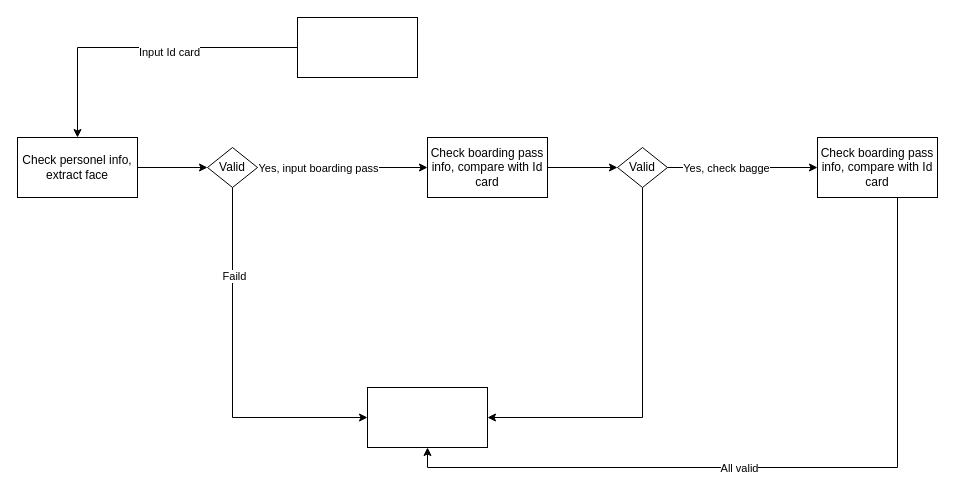
Image size: 955x493. Some labels were removed from this diagram. Each missing label, with the box of its shape:
Automation Kiosk: (296, 16, 418, 78)
End: (366, 386, 488, 448)
